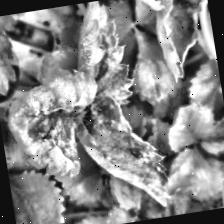Powdery Mildew Leaf: (68, 75, 176, 220), (0, 63, 111, 186), (67, 0, 138, 113)
